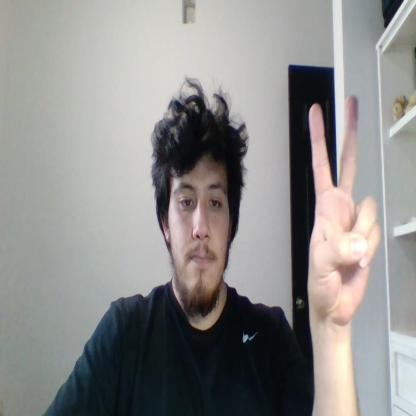V: (307, 95, 380, 324)
